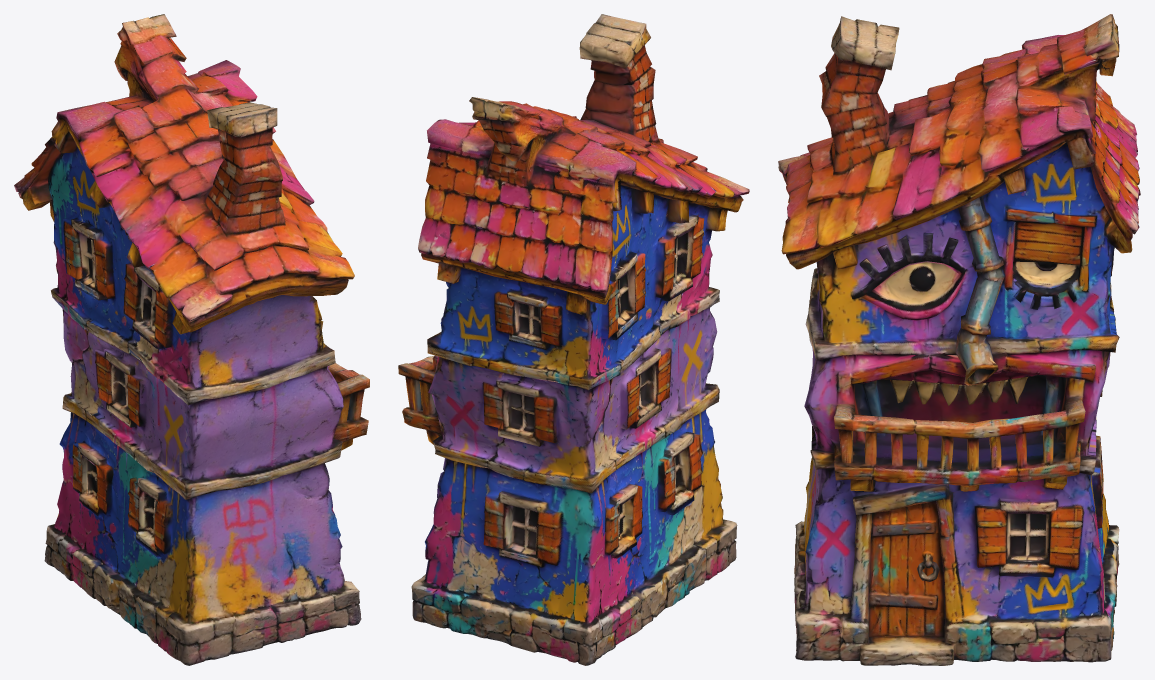
File: house_lean.glb
3 renders of one model, left to right at view 1: azimuth 30°, elevation 25°; view 2: azimuth 150°, elevation 25°; view 3: azimuth 270°, elevation 25°, orthographic. The views are drawn at different scales.
Parts seen in each view (by area): view 1: house_lean; view 2: house_lean; view 3: house_lean.
Part boxes in pixels (left/top/right/bottom): house_lean: left=14, top=14, right=369, bottom=665; house_lean: left=398, top=14, right=749, bottom=665; house_lean: left=778, top=14, right=1140, bottom=665.
Bounding box in the file's own units: 4.47 × 10 × 5.54.
Materials: 1 (1 with a texture image).
